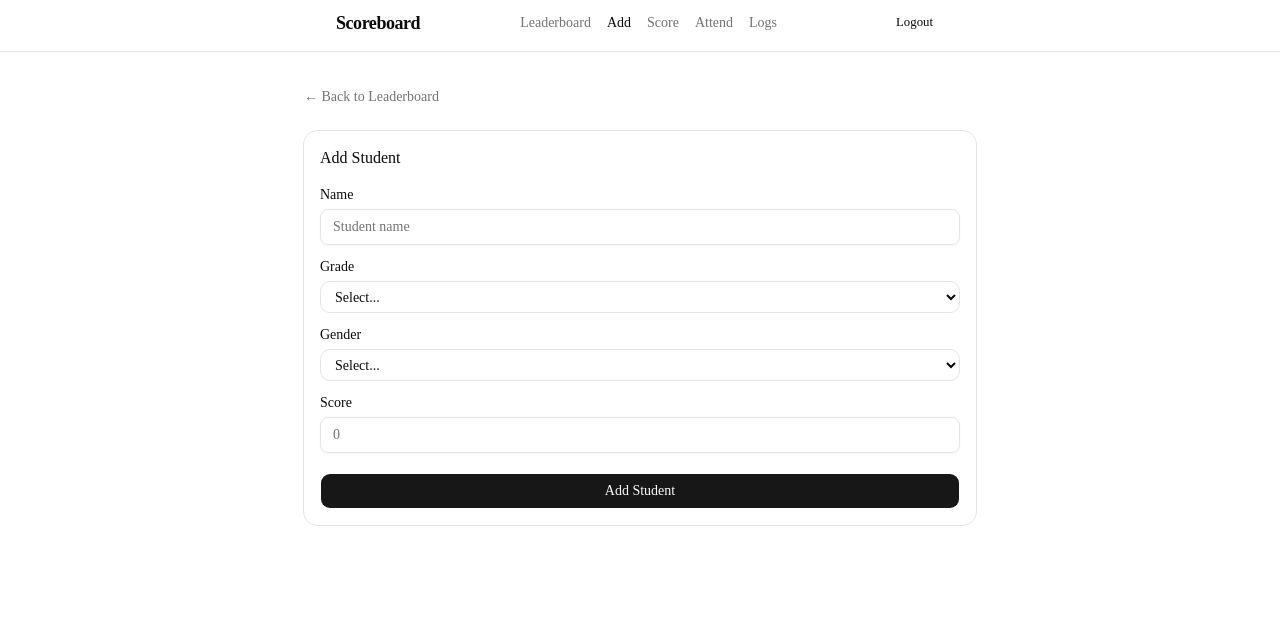
Test case: CreatePage › shows fallback error message for non-Error throws
Type "Alice" into the field labelled "Name" at [640, 227], box x1=320 y1=209 x2=960 y2=245
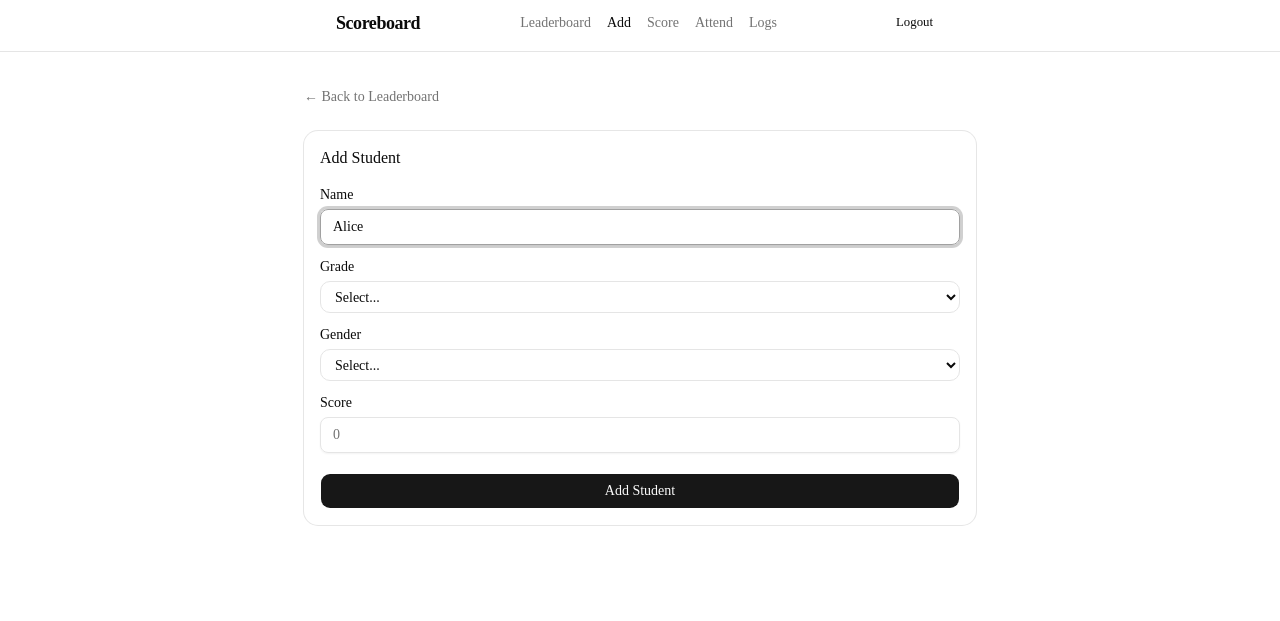
Select "5 primary" in the dropdown labelled "Grade" at [640, 297], box x1=320 y1=281 x2=960 y2=313
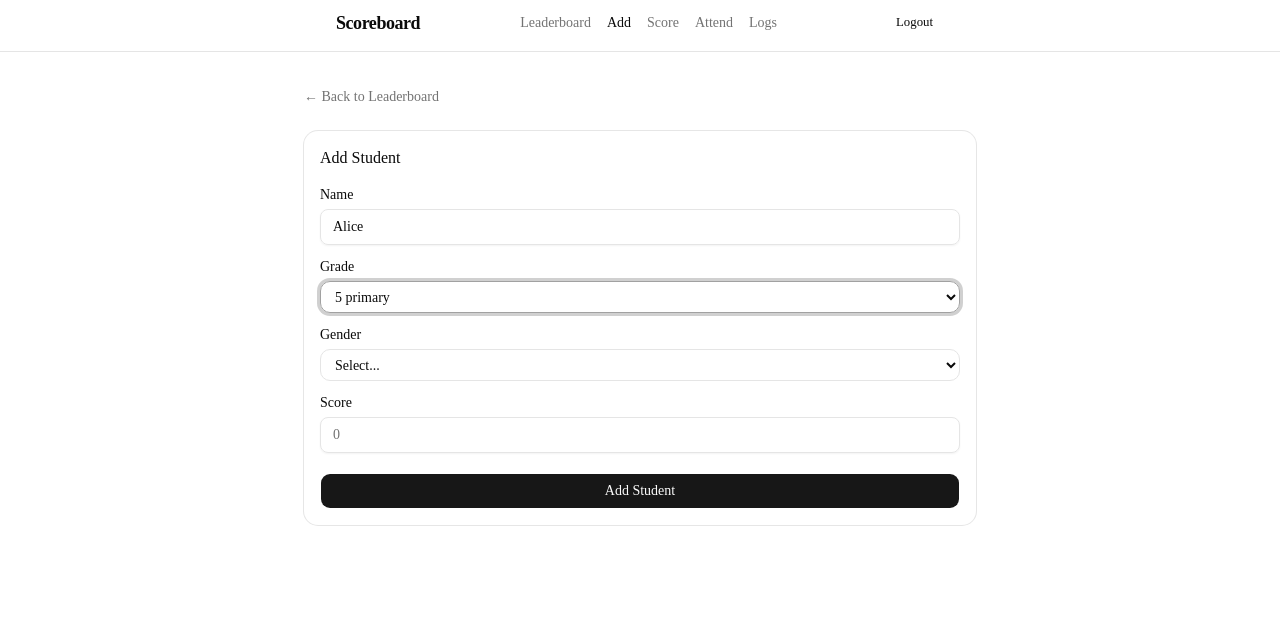
Select "Female" in the dropdown labelled "Gender" at [640, 365], box x1=320 y1=349 x2=960 y2=381
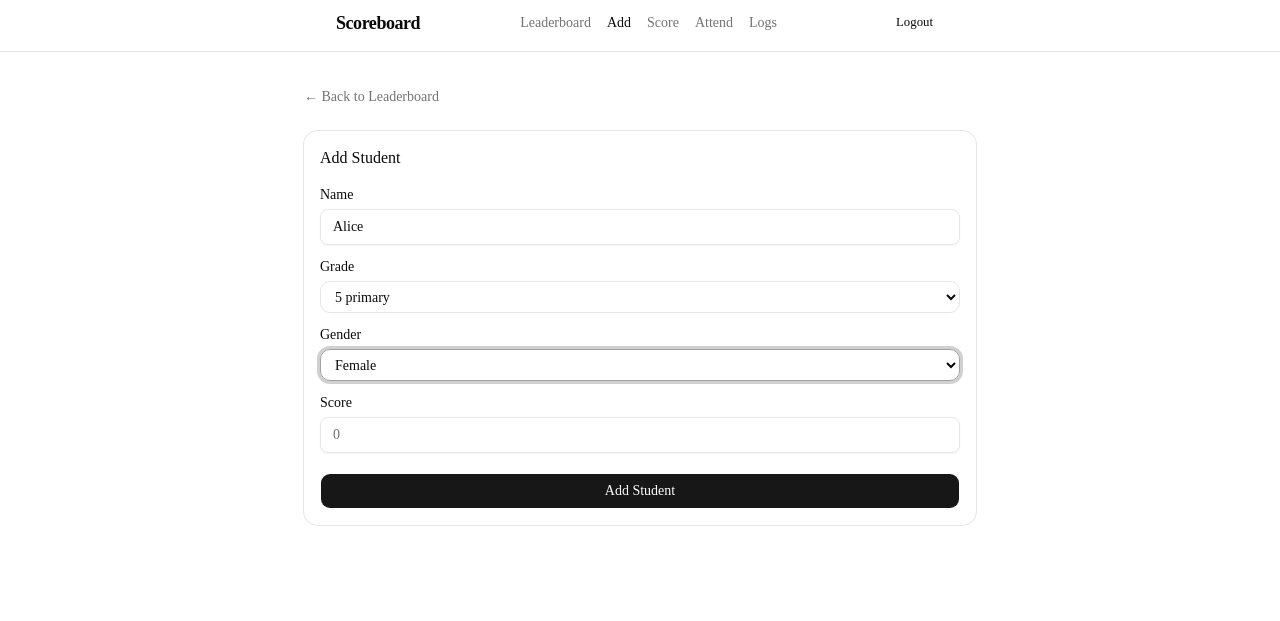
Type "95" into the number field labelled "Score" at [640, 435], box x1=320 y1=417 x2=960 y2=453
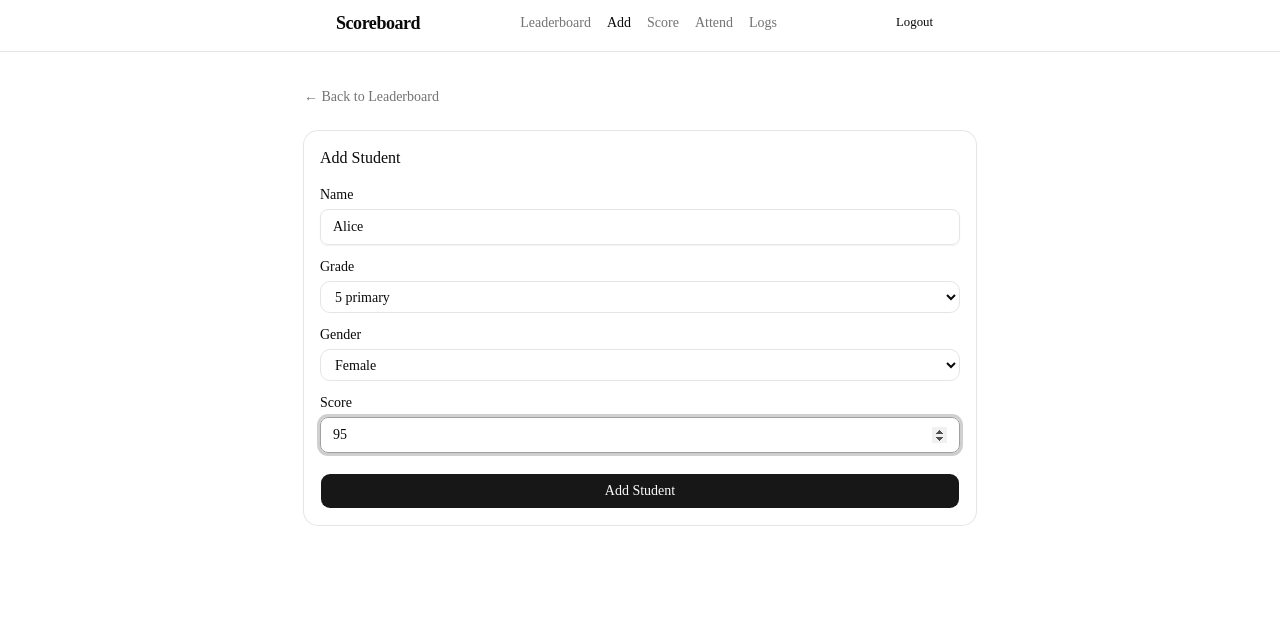
Click the button "Add Student" at [640, 491], box x1=320 y1=473 x2=960 y2=509
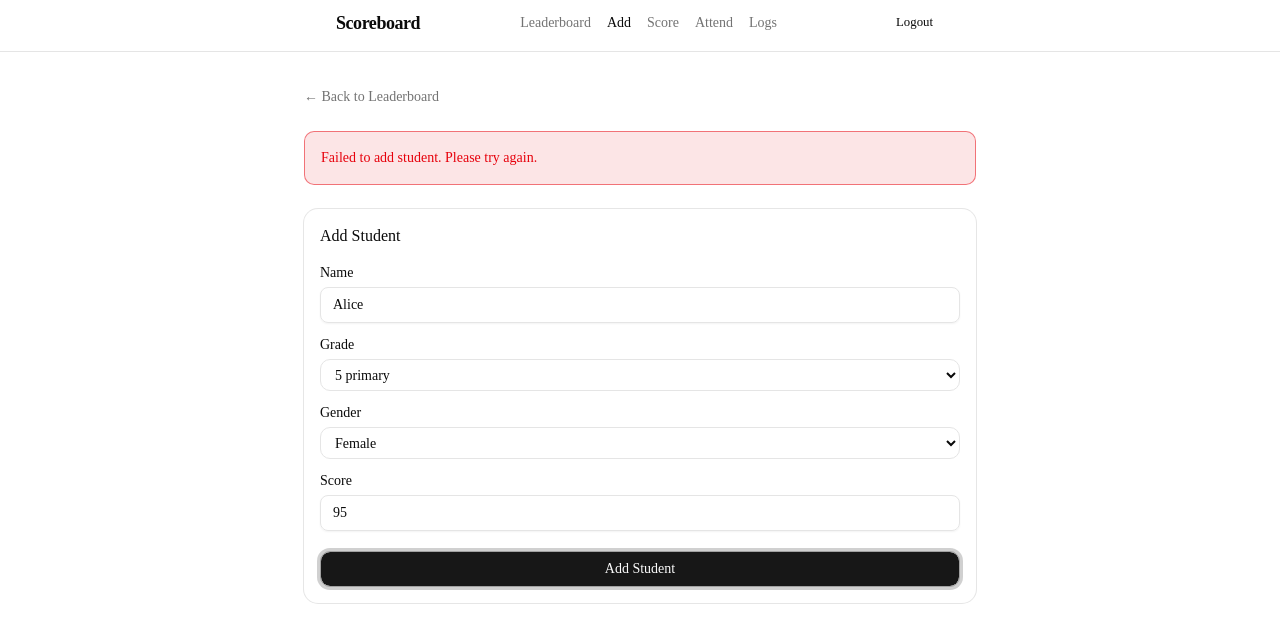
Result: the text "Failed to add student. Please try again." is shown at x1=304 y1=131 x2=976 y2=185
